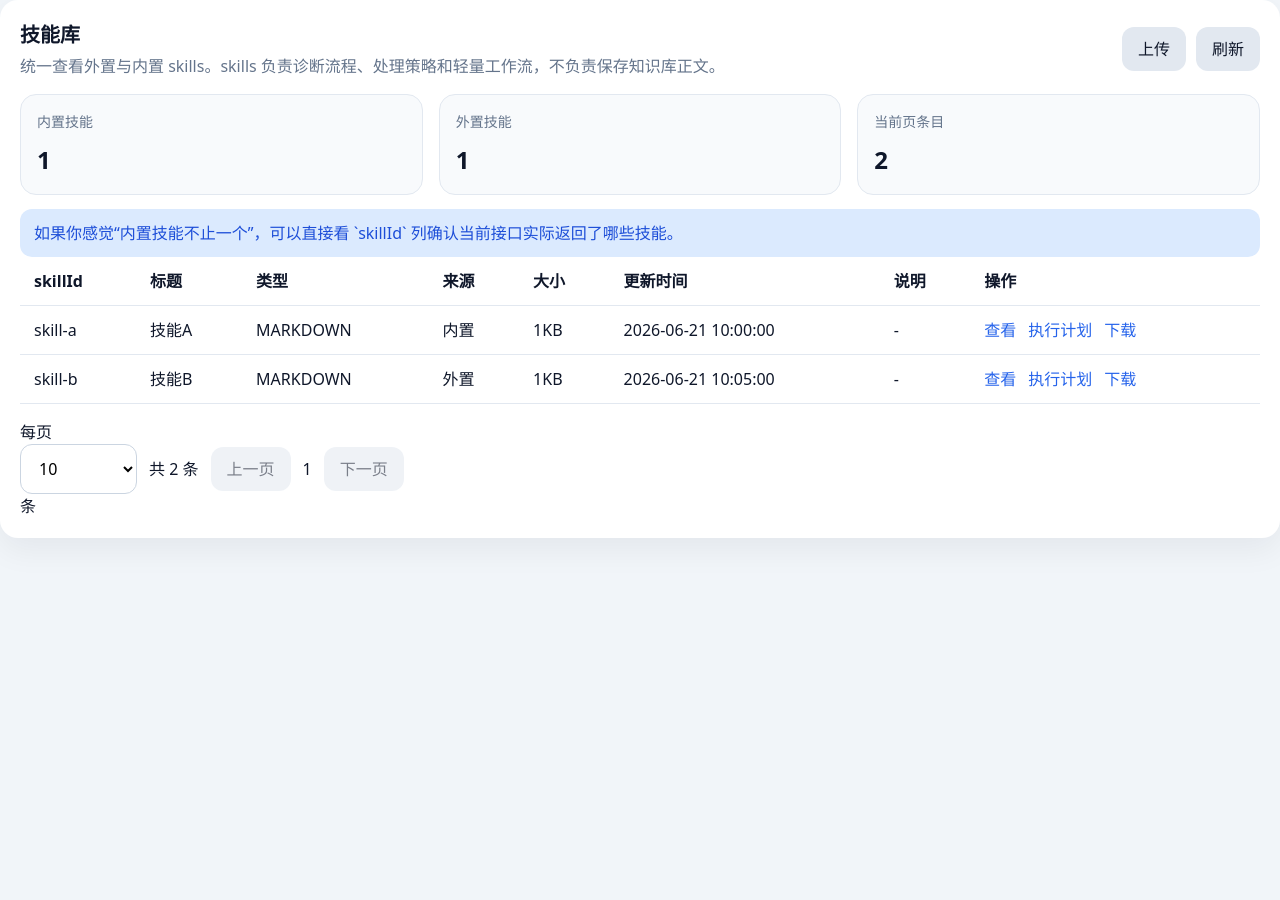
Test case: SkillsPage › 技能正文读取失败后仍可关闭并查看其他技能
The width and height of the screenshot is (1280, 900).
Expected: the text "技能A" is shown, [136,306,242,354]
Click the button "查看" in the row of "skill-a" at (1000, 330), box [984,318,1016,342]
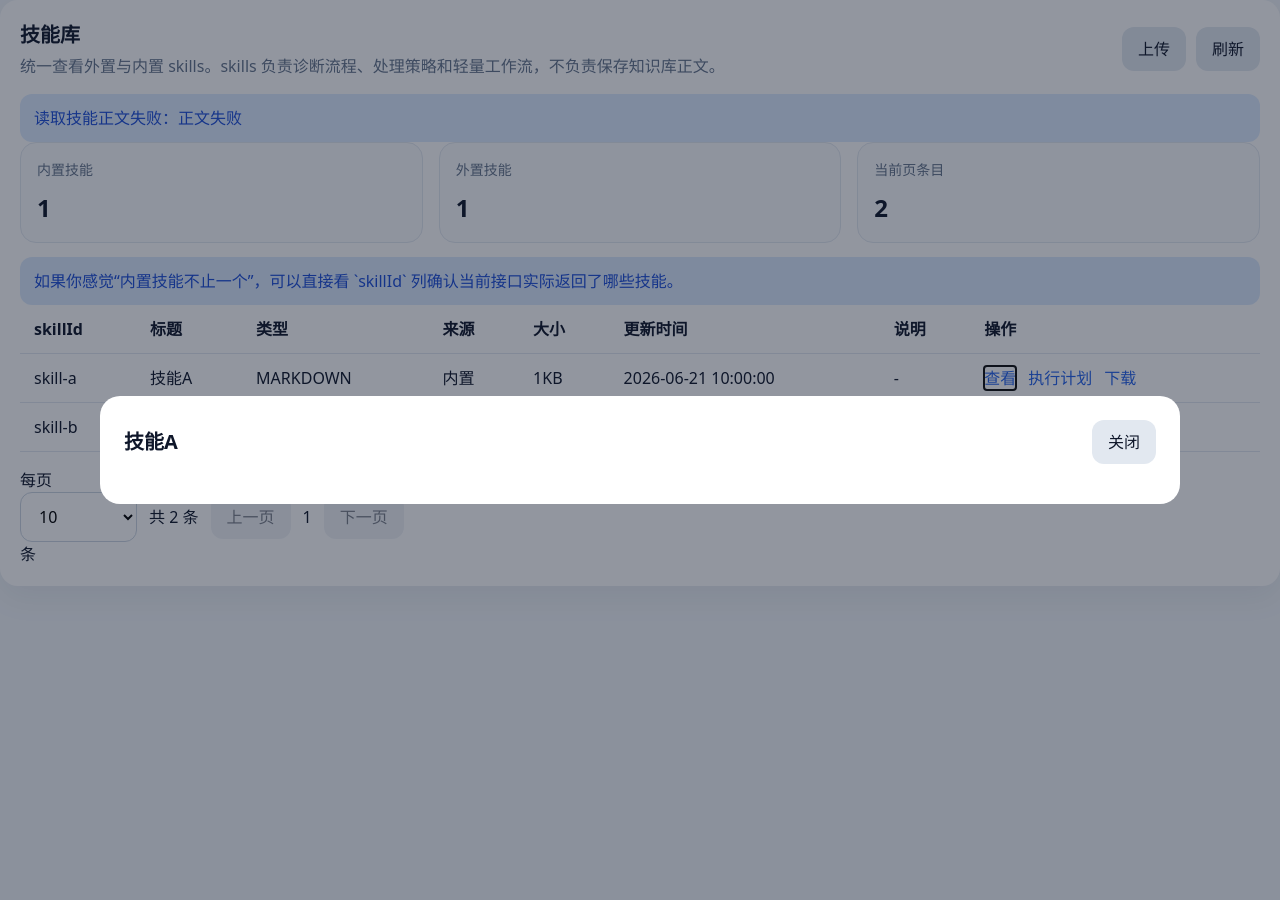
Expected: the text "读取技能正文失败：正文失败" is shown, [20,94,1260,142]
Expected: the button "关闭" is shown
Click the button "关闭" at (1124, 442), box [1092,420,1156,464]
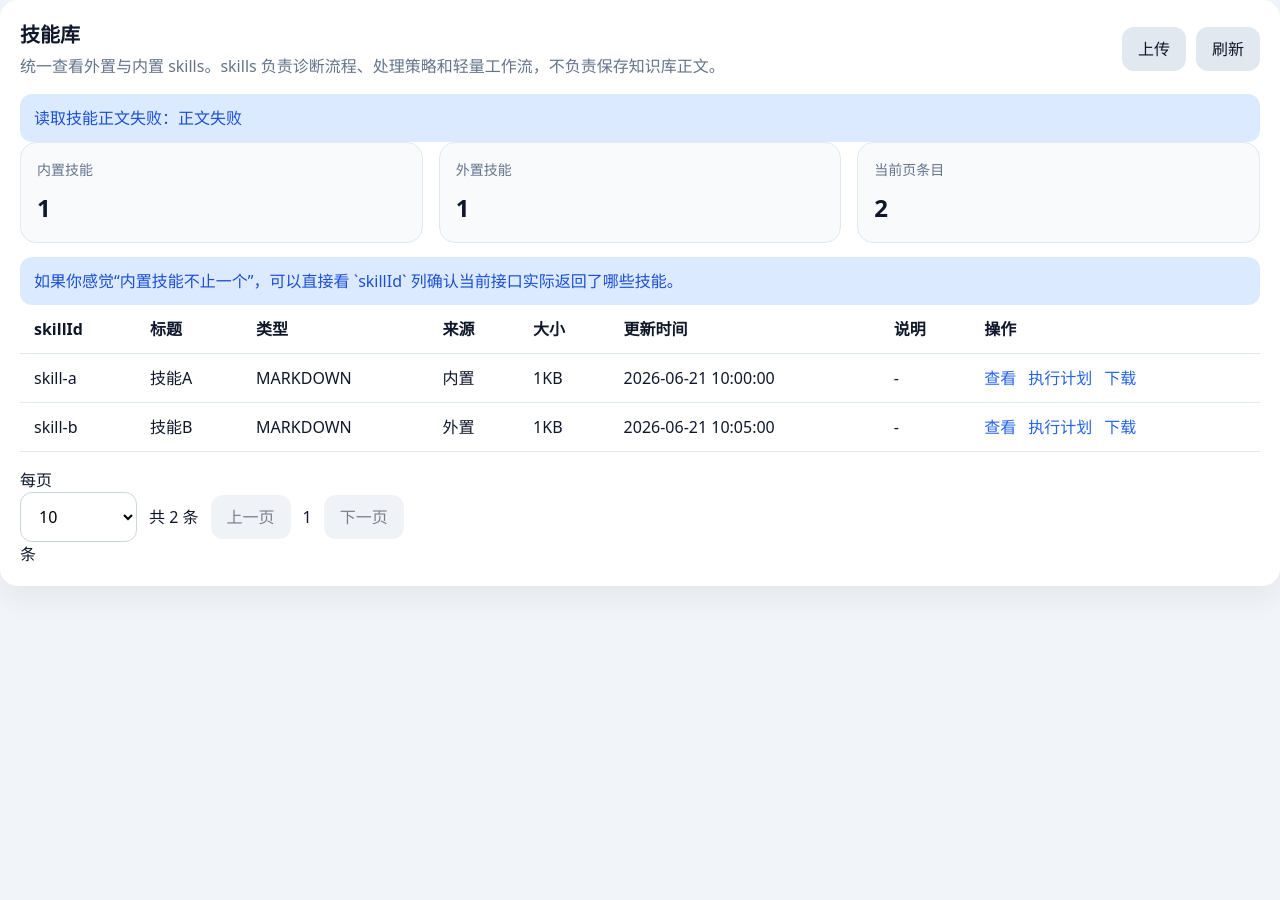
Click the button "查看" in the row of "skill-b" at (1000, 427), box [984,415,1016,439]
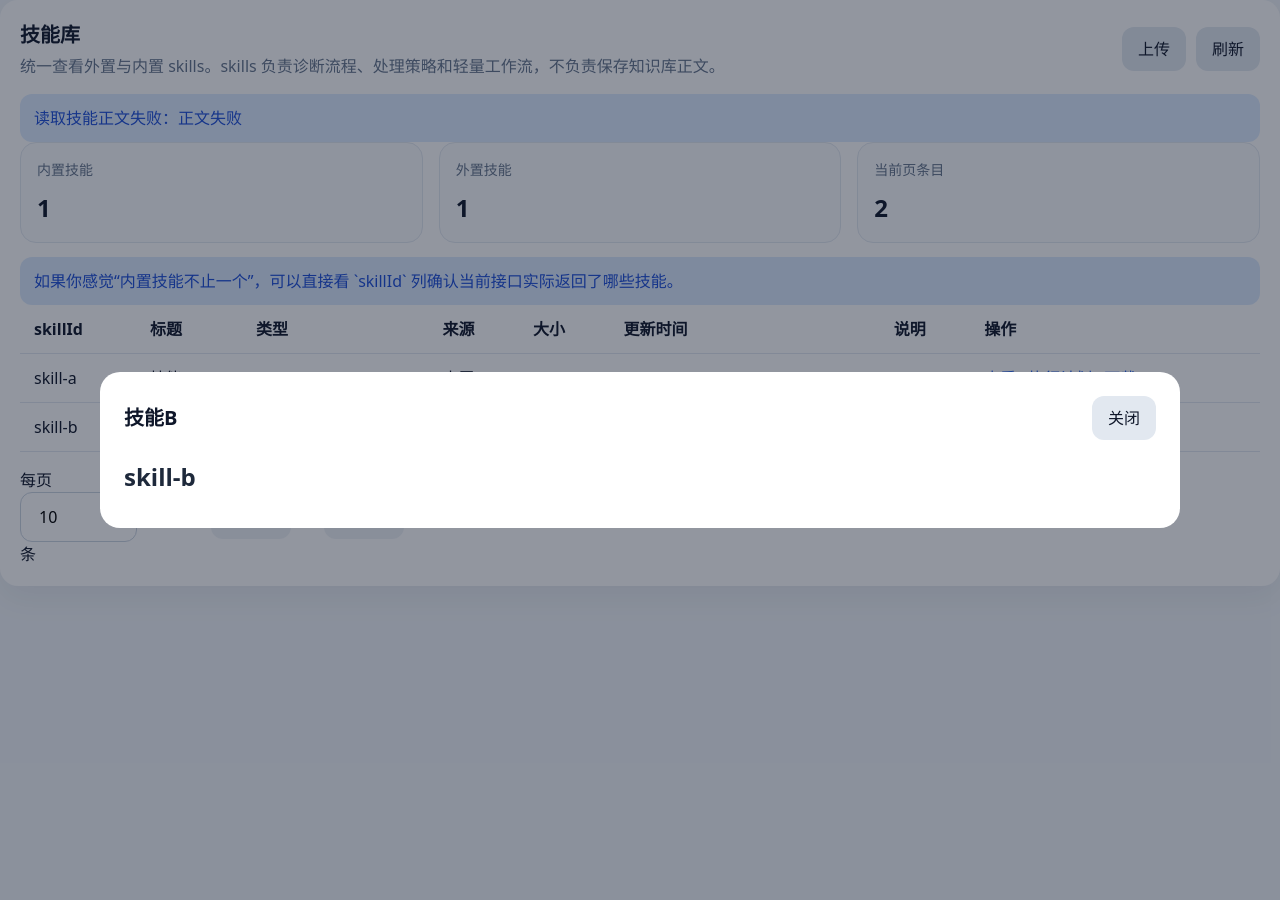
Expected: the heading "技能B" is shown, [124,403,178,433]
